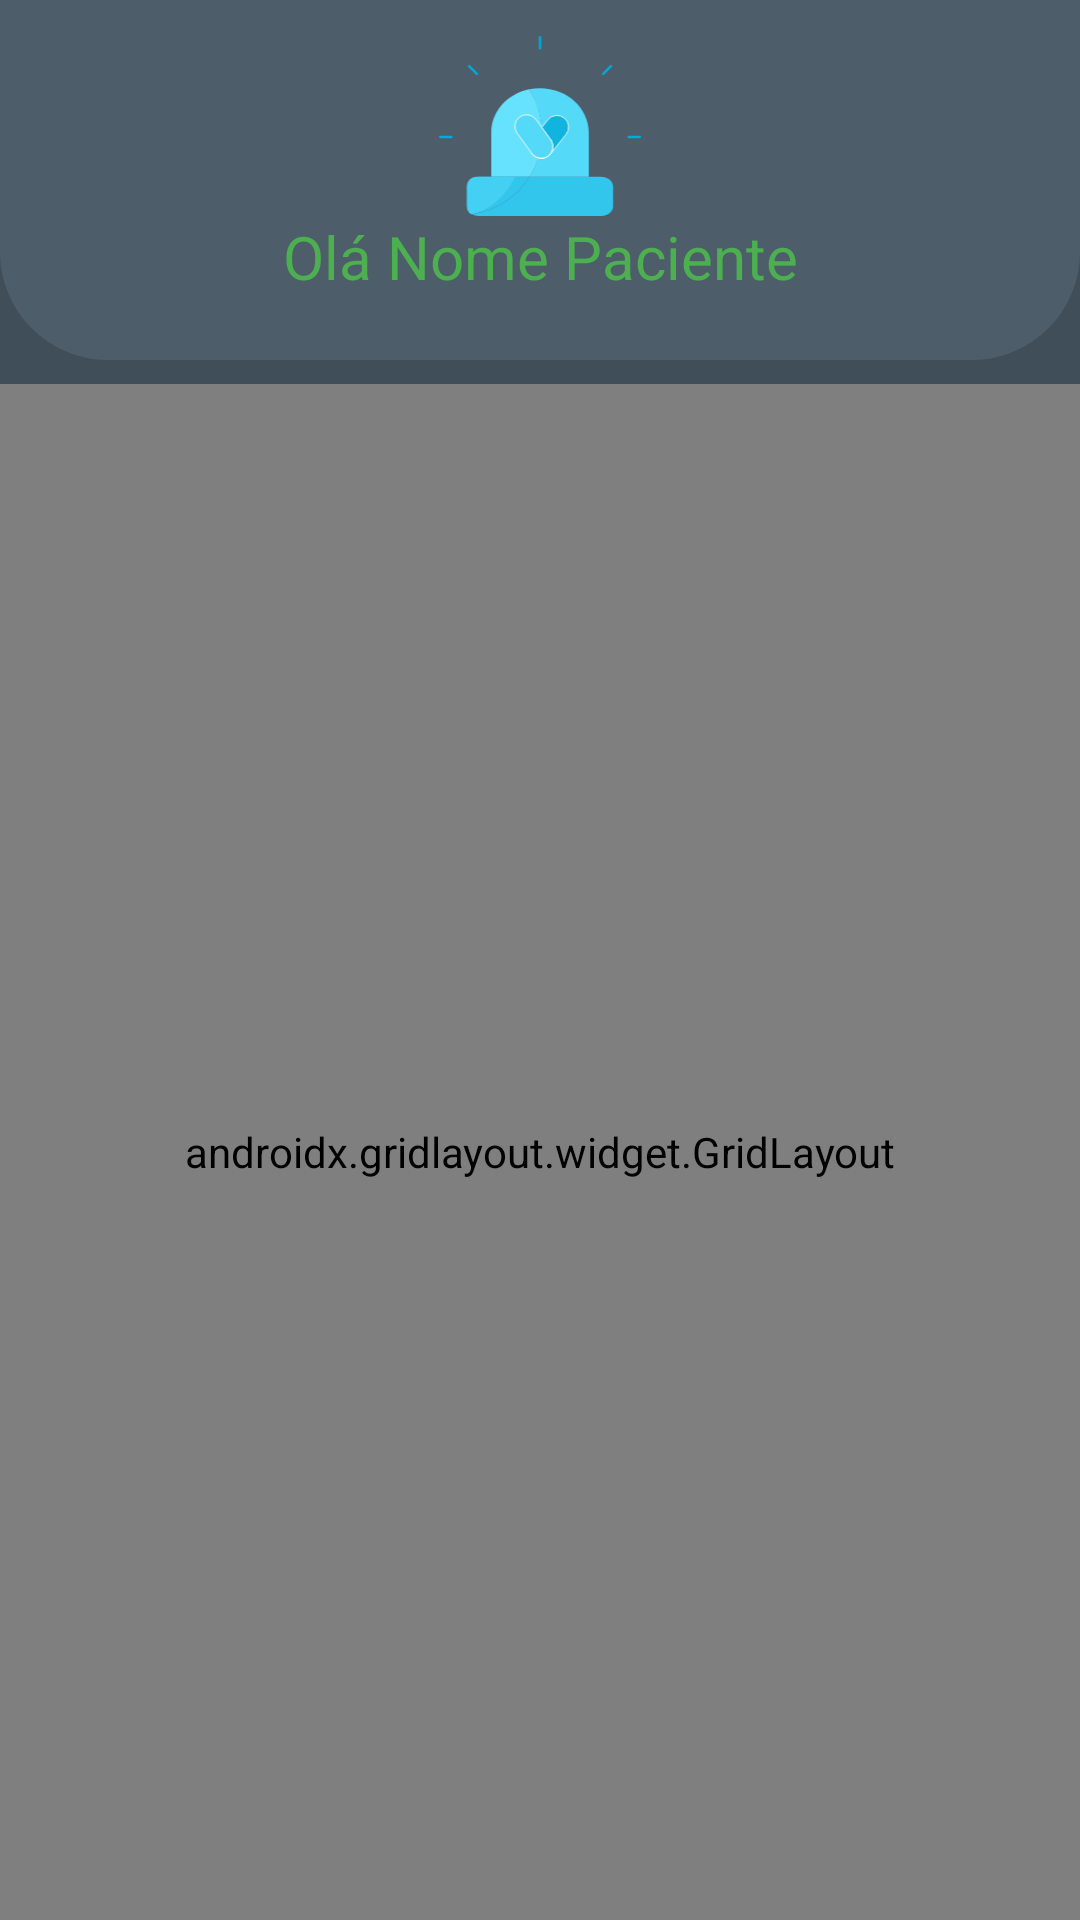

Screen size 1080 × 1920. Icon name, then its center in pixels as (x=x, y=y):
medalert simbolo: (x=540, y=126)
